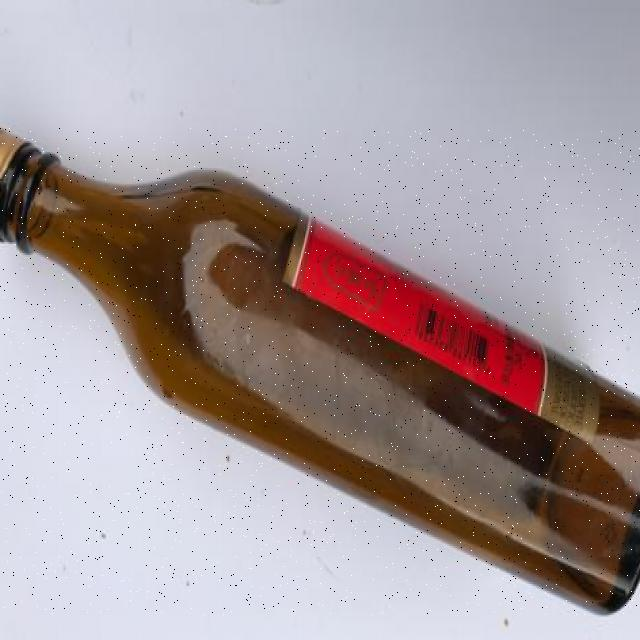glass: (0, 128, 640, 614)
